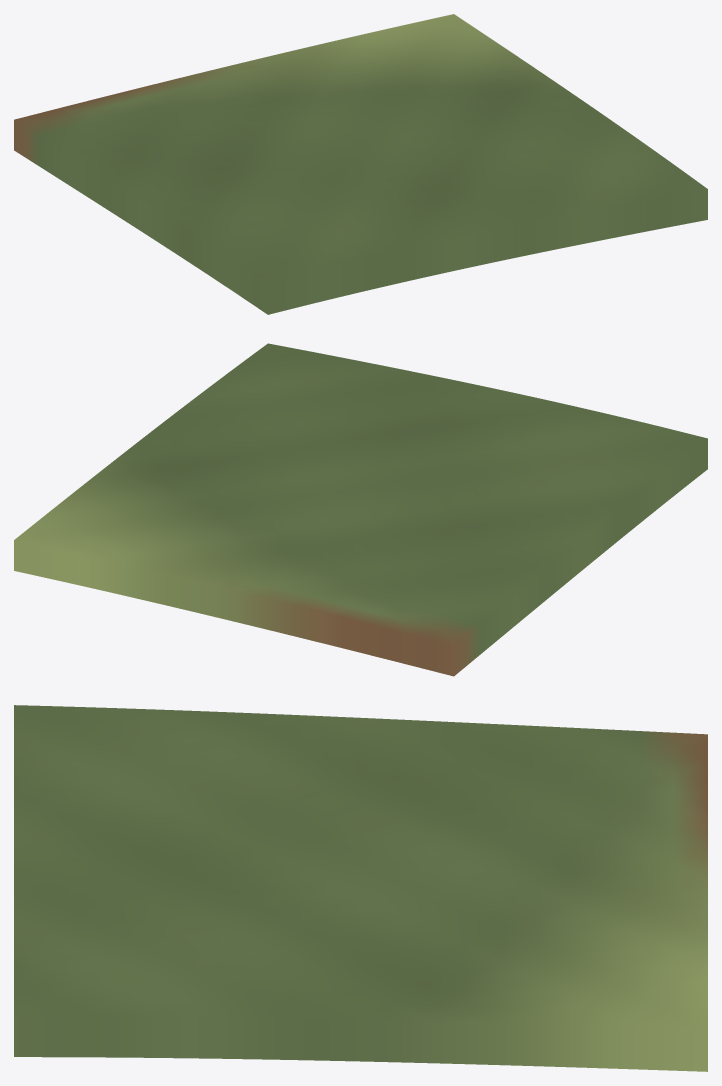
The picture shows the model from 3 angles, top to bottom: view 1: azimuth 30°, elevation 25°; view 2: azimuth 150°, elevation 25°; view 3: azimuth 270°, elevation 25°; orthographic projection. The views are drawn at different scales.
Parts seen in each view (by area): view 1: terrain; view 2: terrain; view 3: terrain.
Boxes of the visible parts, x1=… form: terrain: x1=14, y1=14, x2=707, y2=314; terrain: x1=14, y1=343, x2=707, y2=676; terrain: x1=14, y1=705, x2=707, y2=1071.
Size of the model in its own units: 30 by 3.52 by 30.
